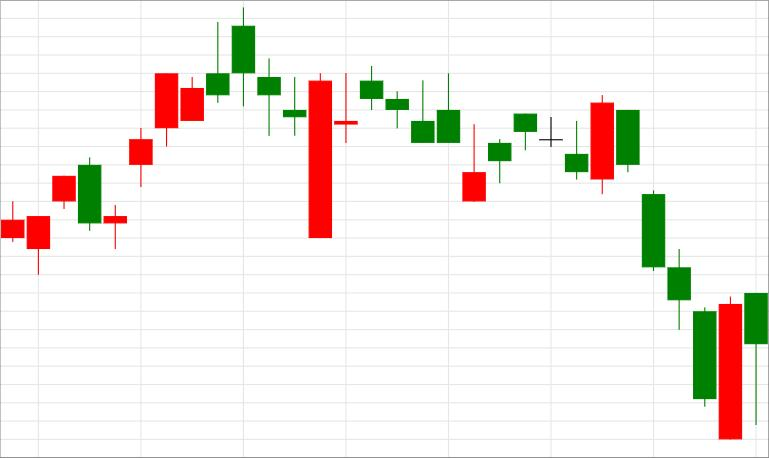bullish_engulfing_rise: (617, 109, 742, 440)
inverse_hammer_rise: (361, 65, 485, 202)
shooting_star_fall: (104, 23, 229, 248)
